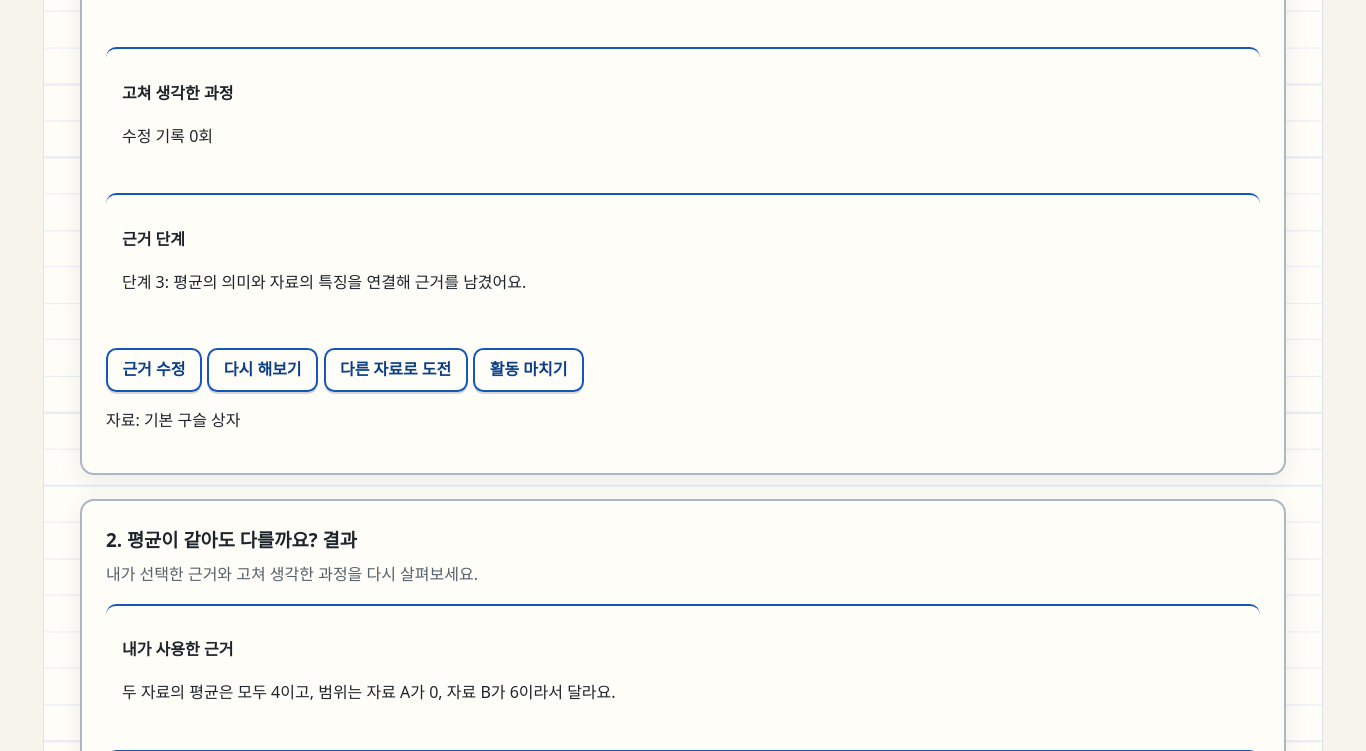
Test case: ResultScreen › edits a canonical attempt in place without increasing revisions
(page scrolled)
Click the button "근거 수정".
click(154, 370)  # box [106, 348, 202, 392]
(page scrolled)
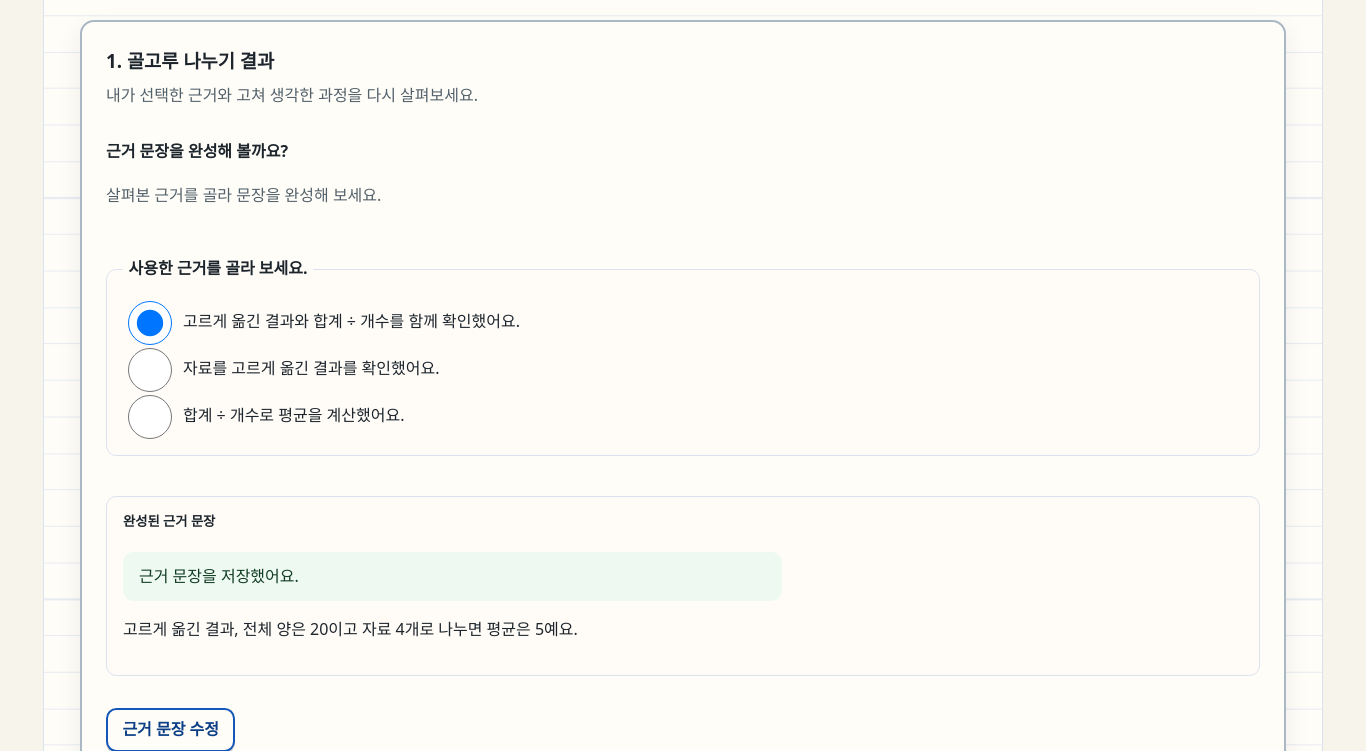
Click the radio button labelled "자료를 고르게 옮긴 결과를 확인했어요.".
click(150, 370)  # box [128, 348, 172, 392]
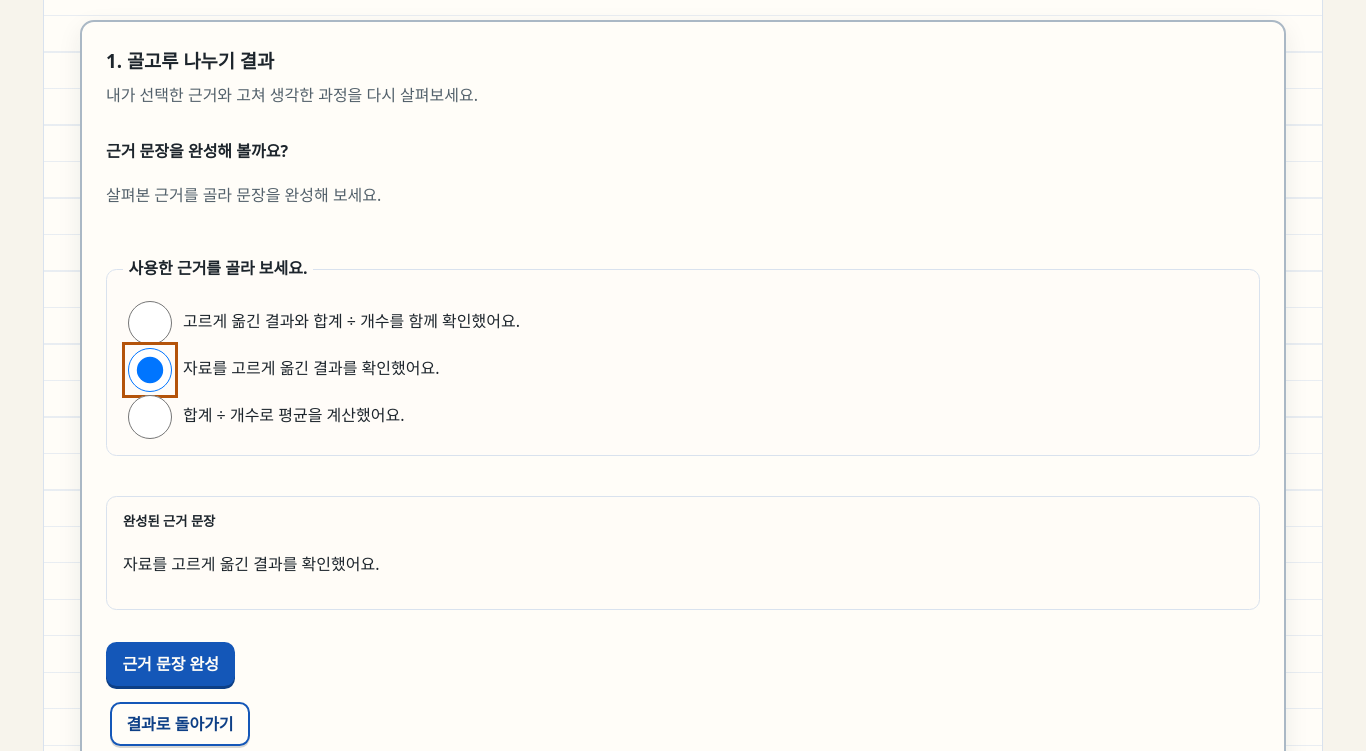
Click the radio button labelled "고르게 옮긴 결과와 합계 ÷ 개수를 함께 확인했어요.".
click(150, 323)  # box [128, 301, 172, 345]
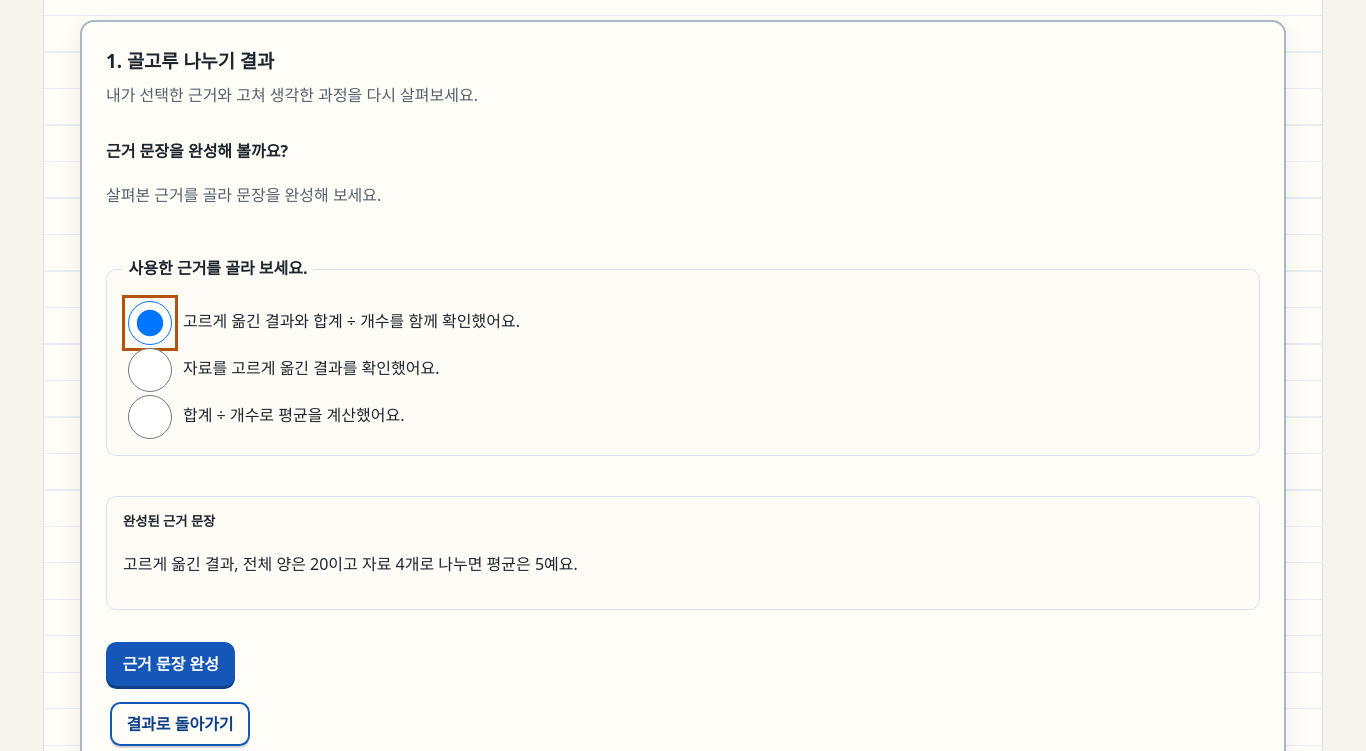
Click the button "근거 문장 완성".
click(171, 664)  # box [106, 642, 235, 686]
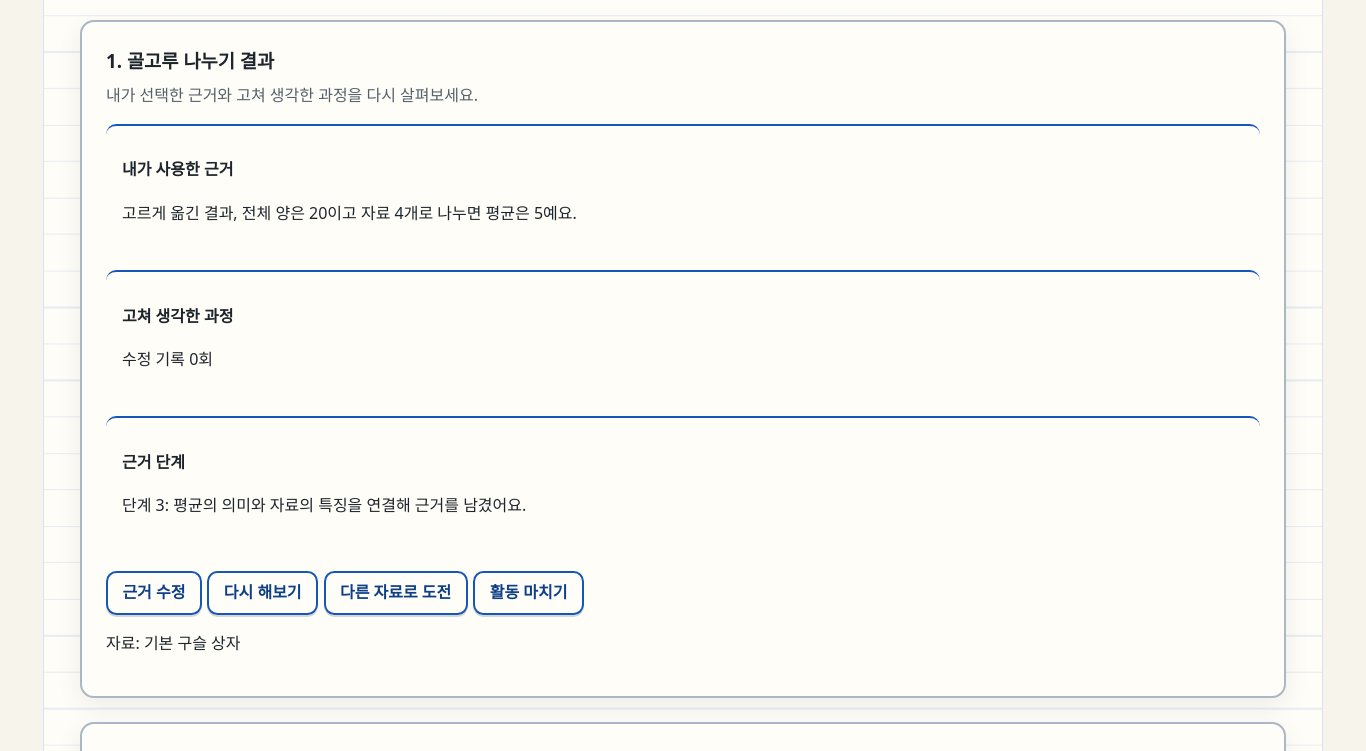
Expected: the text "고르게 옮긴 결과, 전체 양은 20이고 자료 4개로 나누면 평균은 5예요." is shown, [122, 202, 577, 224]
Expected: the text "수정 기록 0회" is shown, [122, 348, 213, 370]
